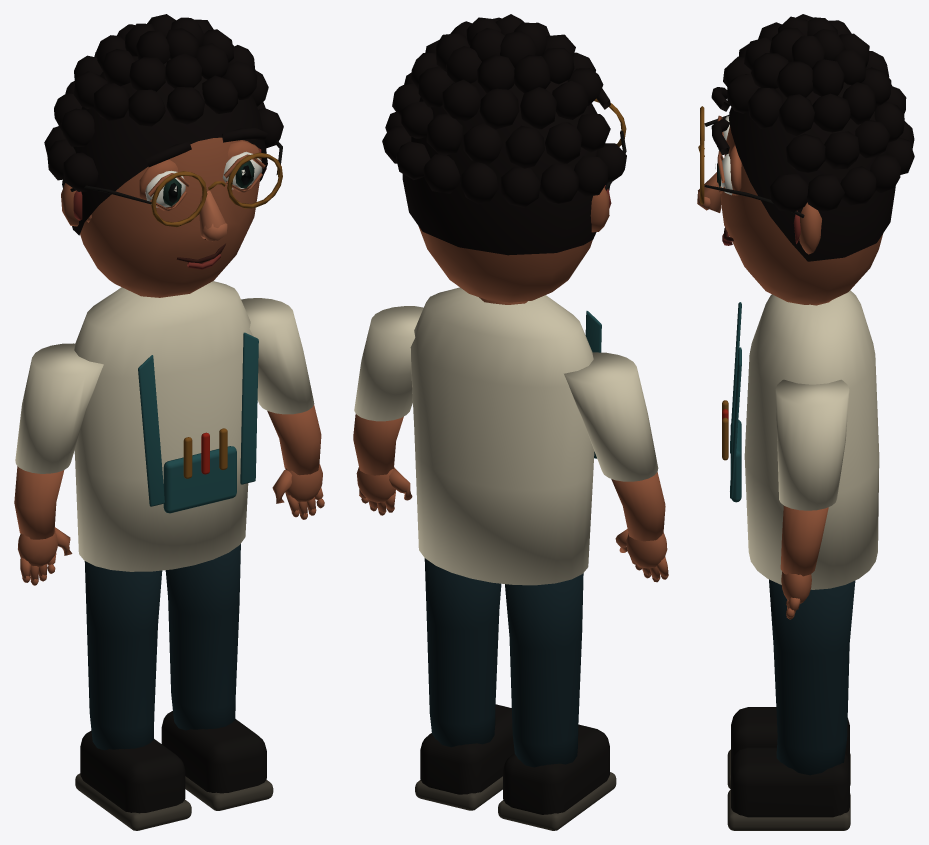
Rendered from technician-02.glb.
The picture shows the model from 3 angles, left to right: view 1: azimuth 30°, elevation 25°; view 2: azimuth 150°, elevation 25°; view 3: azimuth 270°, elevation 25°; orthographic projection.
Parts seen in each view (by area): view 1: Head, Body, LegL, LegR, ArmL, ArmR; view 2: Head, Body, LegL, LegR, ArmL, ArmR; view 3: Head, Body, LegR, ArmR, LegL.
Boxes of the visible parts, x1,y1,x2,y2 form: Head: (44,14,283,297); Body: (74,281,258,571); LegL: (75,561,191,830); LegR: (161,544,273,810); ArmL: (14,343,103,585); ArmR: (241,298,324,519); Head: (382,14,626,304); Body: (410,287,601,585); LegL: (498,573,616,830); LegR: (415,558,514,810); ArmL: (564,352,668,582); ArmR: (353,306,423,515); Head: (697,14,914,305); Body: (722,290,879,589); LegR: (727,579,855,830); ArmR: (775,379,849,619); LegL: (727,707,850,789).
Bounding box in the file's own units: 0.6256 × 1.51 × 0.3859.
